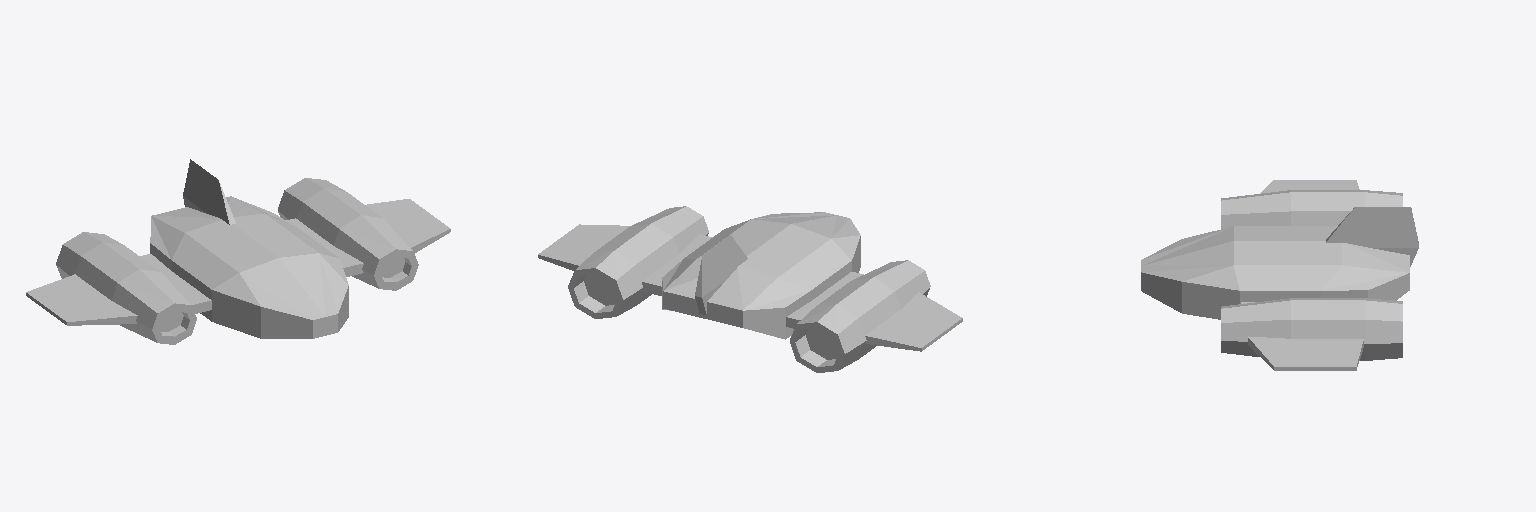
The model's file is spaceship5.obj.
3 views of the same model, side by side, from view 1: azimuth 30°, elevation 25°; view 2: azimuth 150°, elevation 25°; view 3: azimuth 270°, elevation 25° (orthographic).
Parts seen in each view (by area): view 1: M2_Ship_1_Cube.059; view 2: M2_Ship_1_Cube.059; view 3: M2_Ship_1_Cube.059.
Part boxes in pixels (left/top/right/bottom): M2_Ship_1_Cube.059: left=26, top=159, right=450, bottom=344; M2_Ship_1_Cube.059: left=538, top=206, right=962, bottom=372; M2_Ship_1_Cube.059: left=1141, top=180, right=1418, bottom=370.
Size of the model in its own units: 1 by 0.2436 by 0.628.